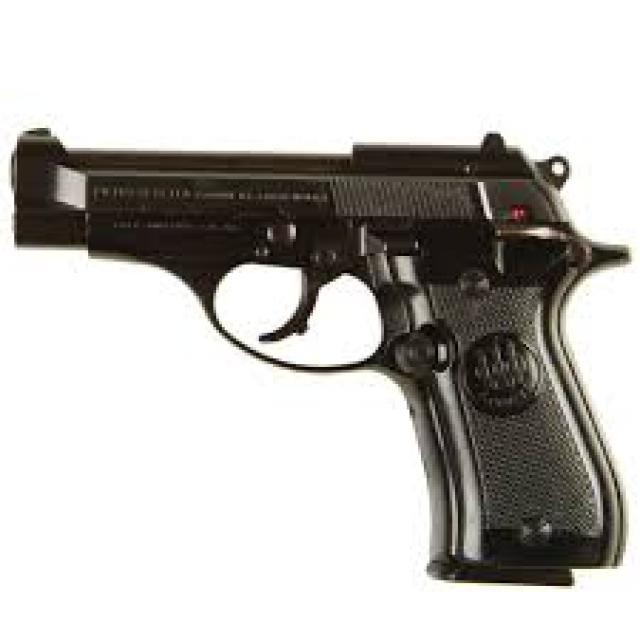pistol: (1, 114, 640, 595)
